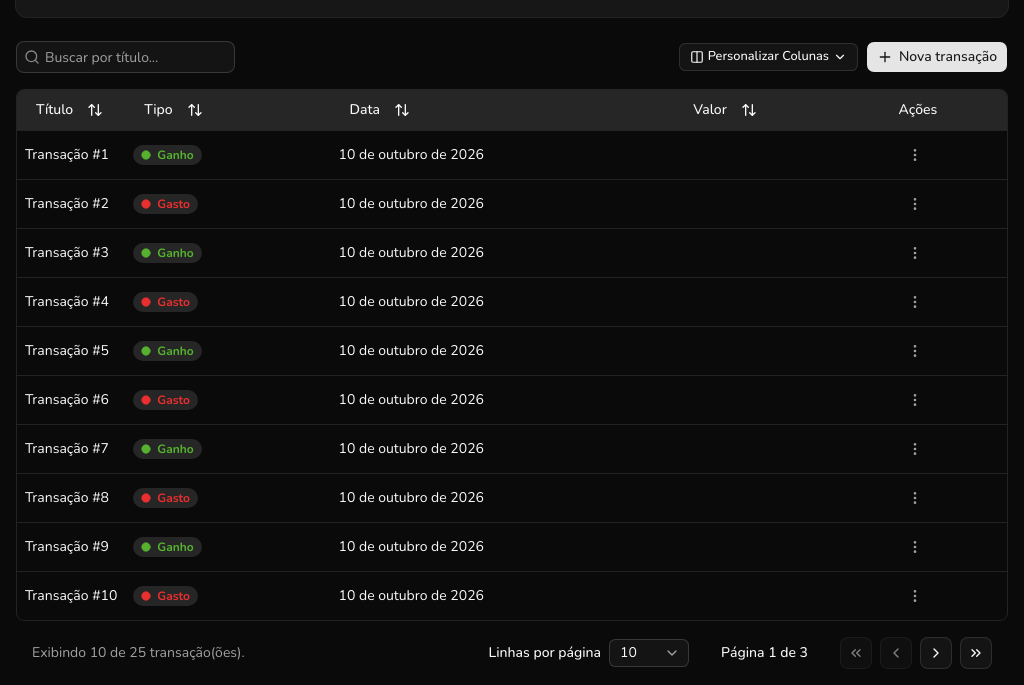
Test: FinancePage (End-to-end Cockpit Assembly) › Pagination navigation on the table › navigates through pages and synchronizes page index with URL parameters
(page scrolled)
Check: the text "Página 1 de 3" is shown, box [721,642,808,662]
Check: the text "Transação #1" is shown, box [17,130,125,179]
# Click next page
Click the button named "Próxima página" at (936, 652), box [920,636,952,668]
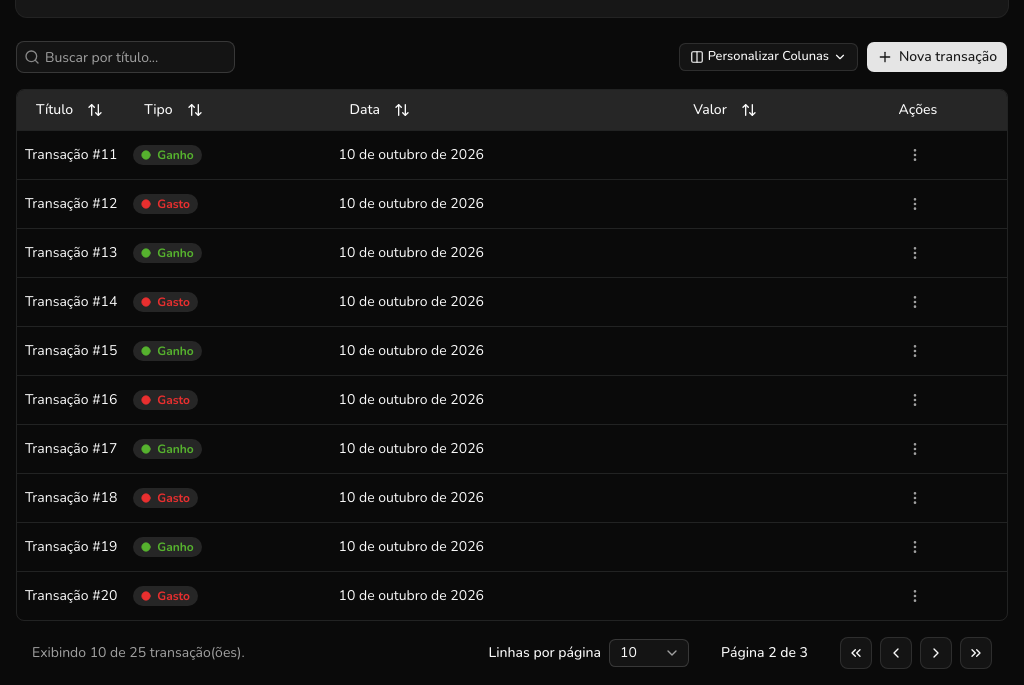
Check: the text "Página 2 de 3" is shown, box [721,642,808,662]
Check: the text "Transação #11" is shown, box [17,130,125,179]
# Click previous page
Click the button named "Página anterior" at (896, 652), box [880,636,912,668]
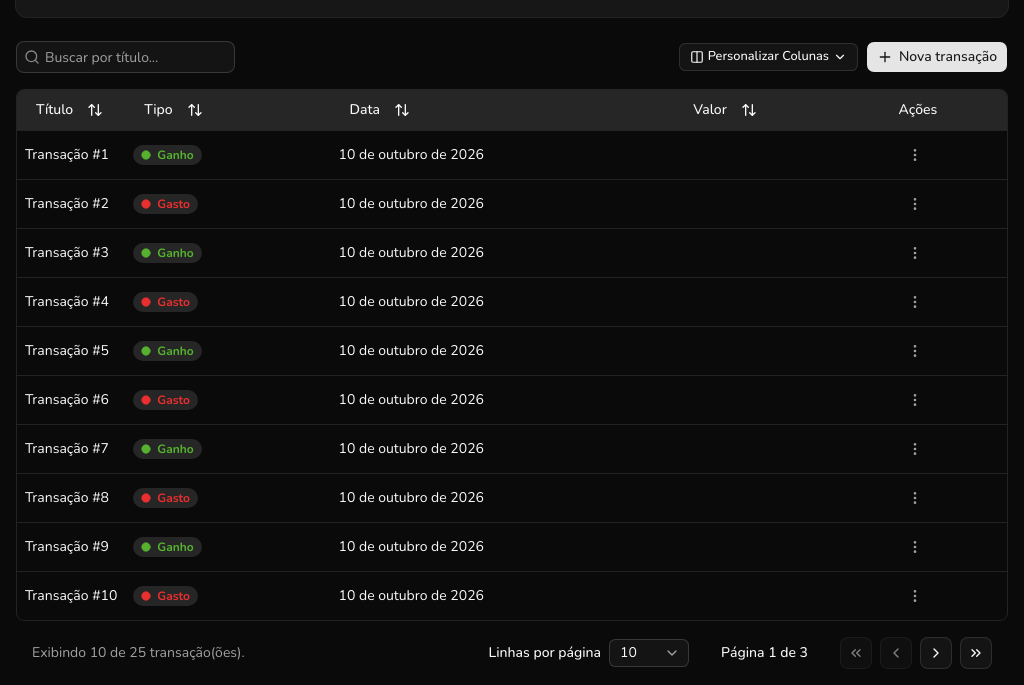
Check: the text "Página 1 de 3" is shown, box [721,642,808,662]
